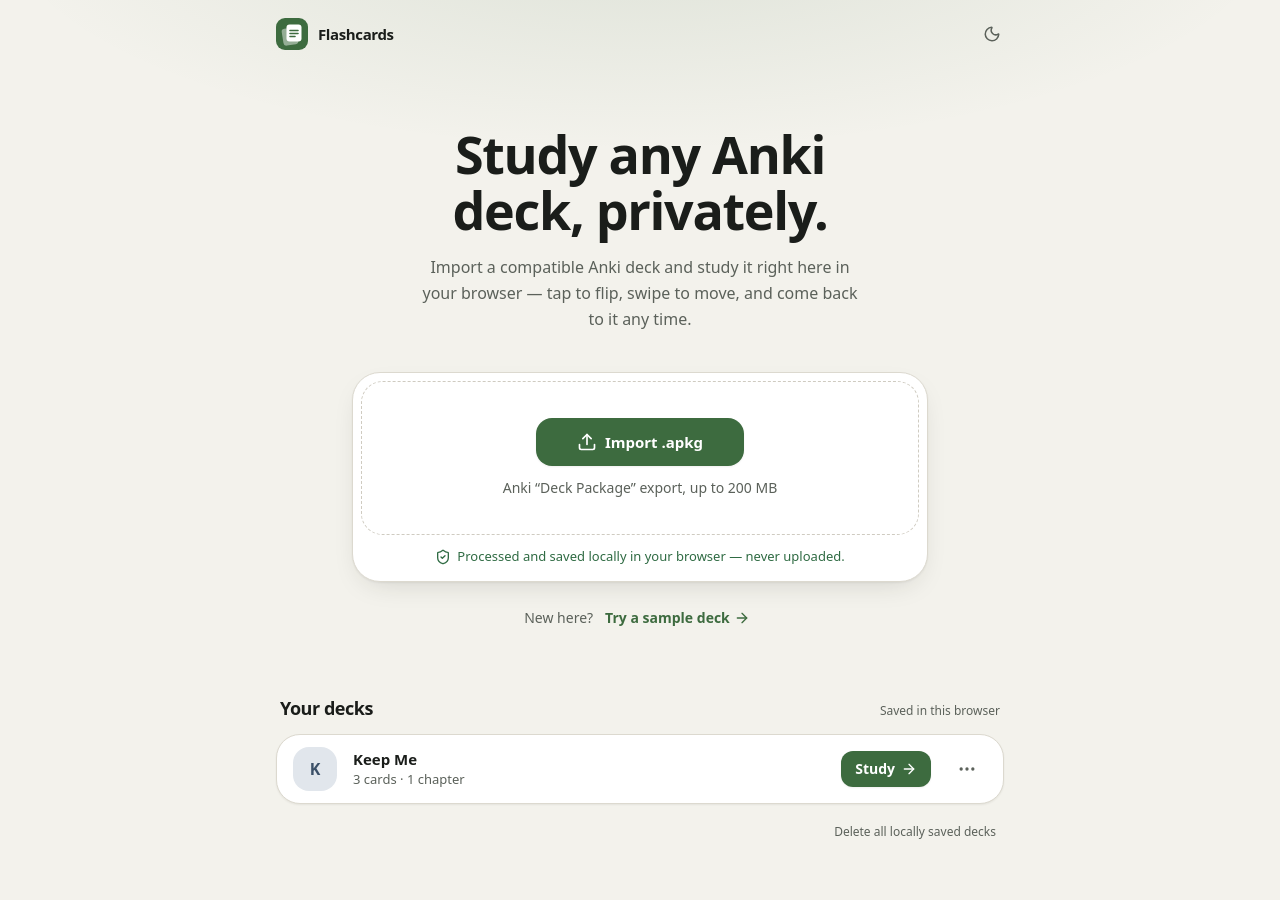
it: deleting from the library › cancelling leaves the deck alone
Check: the text "Keep Me" is shown, box [353,749,417,769]
Click the button named "More actions for Keep Me": click(967, 769) [947,749,987,789]
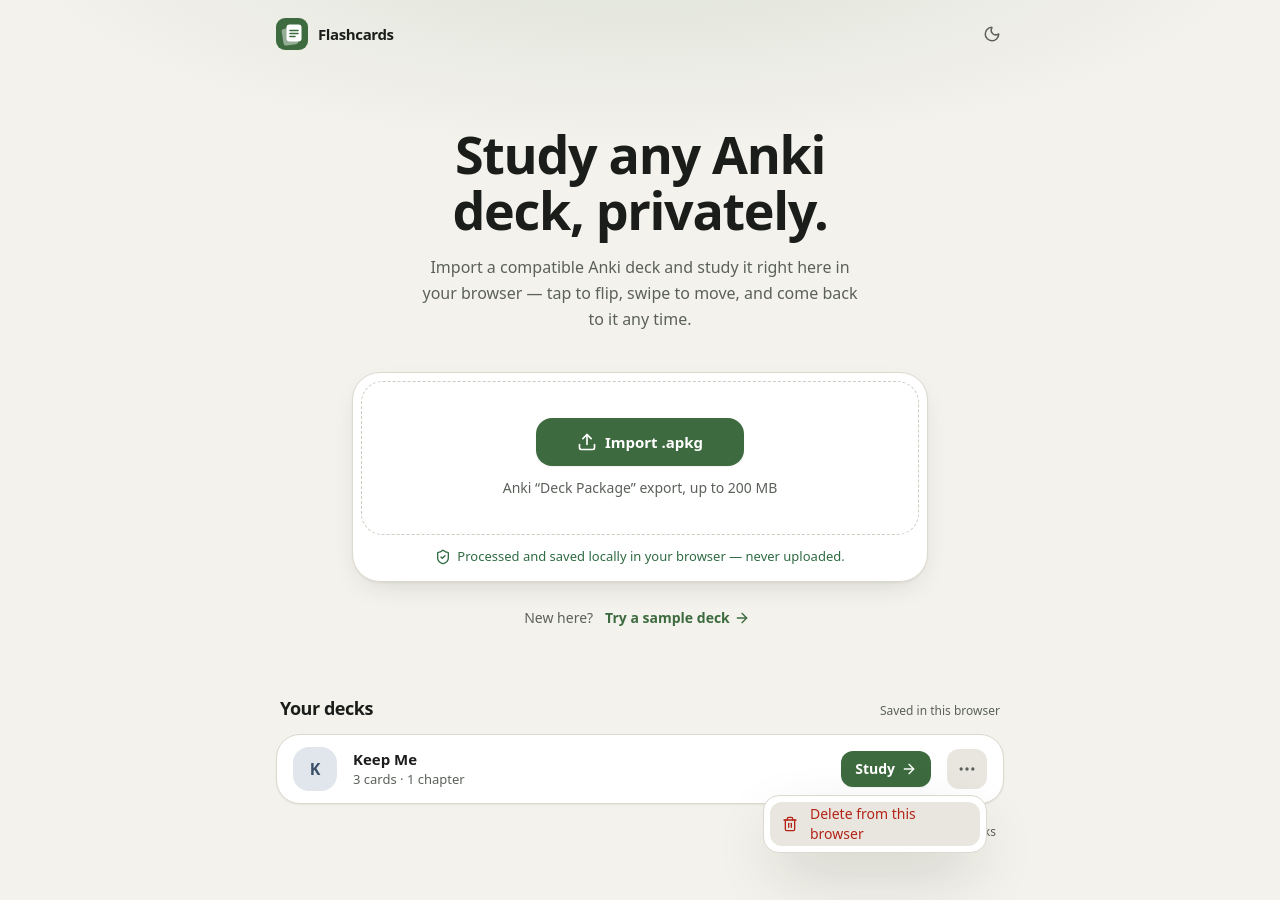
Click the menu item "Delete from this browser": click(875, 824) [770,802,980,846]
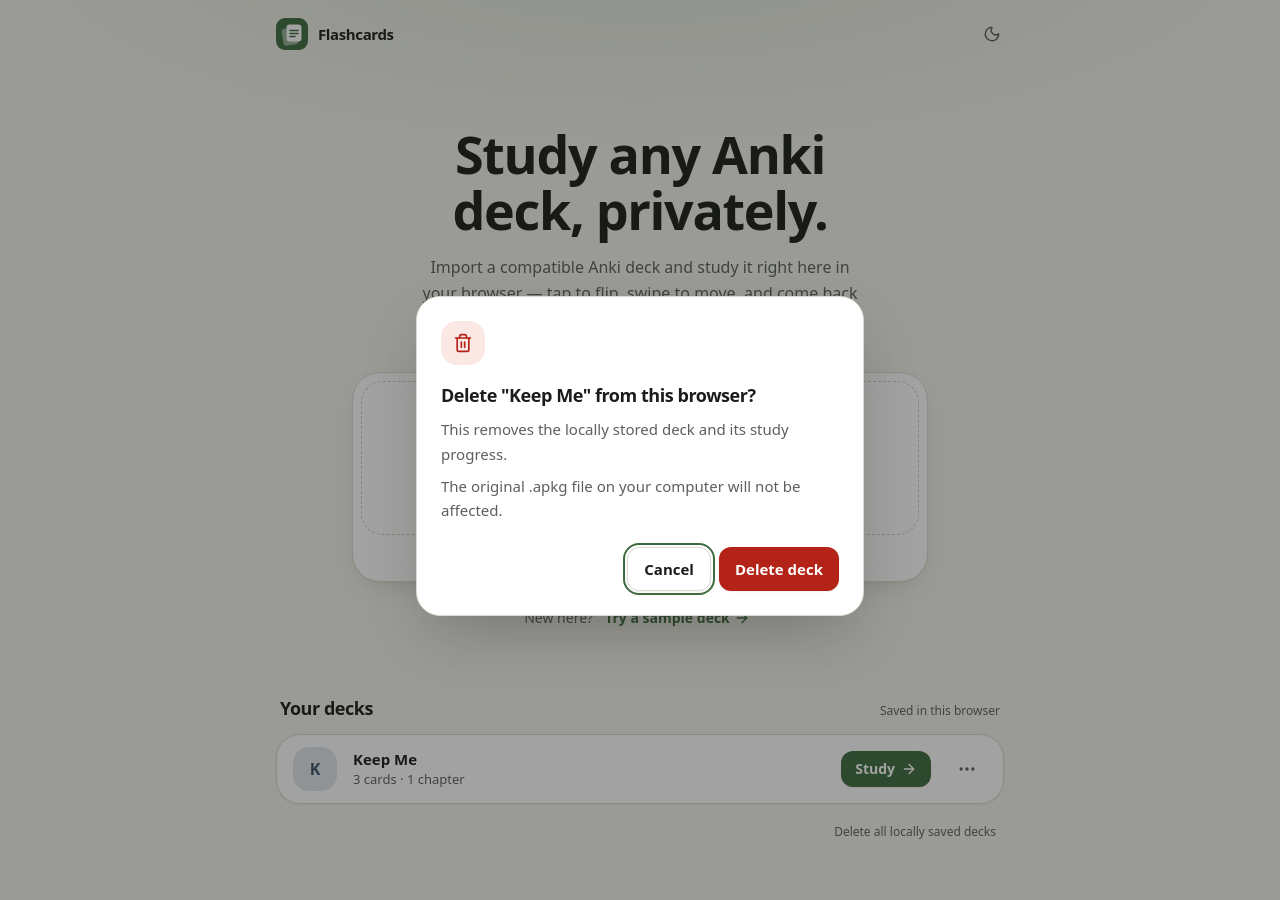
Click the button "Cancel": click(669, 569) [627,547,711,591]
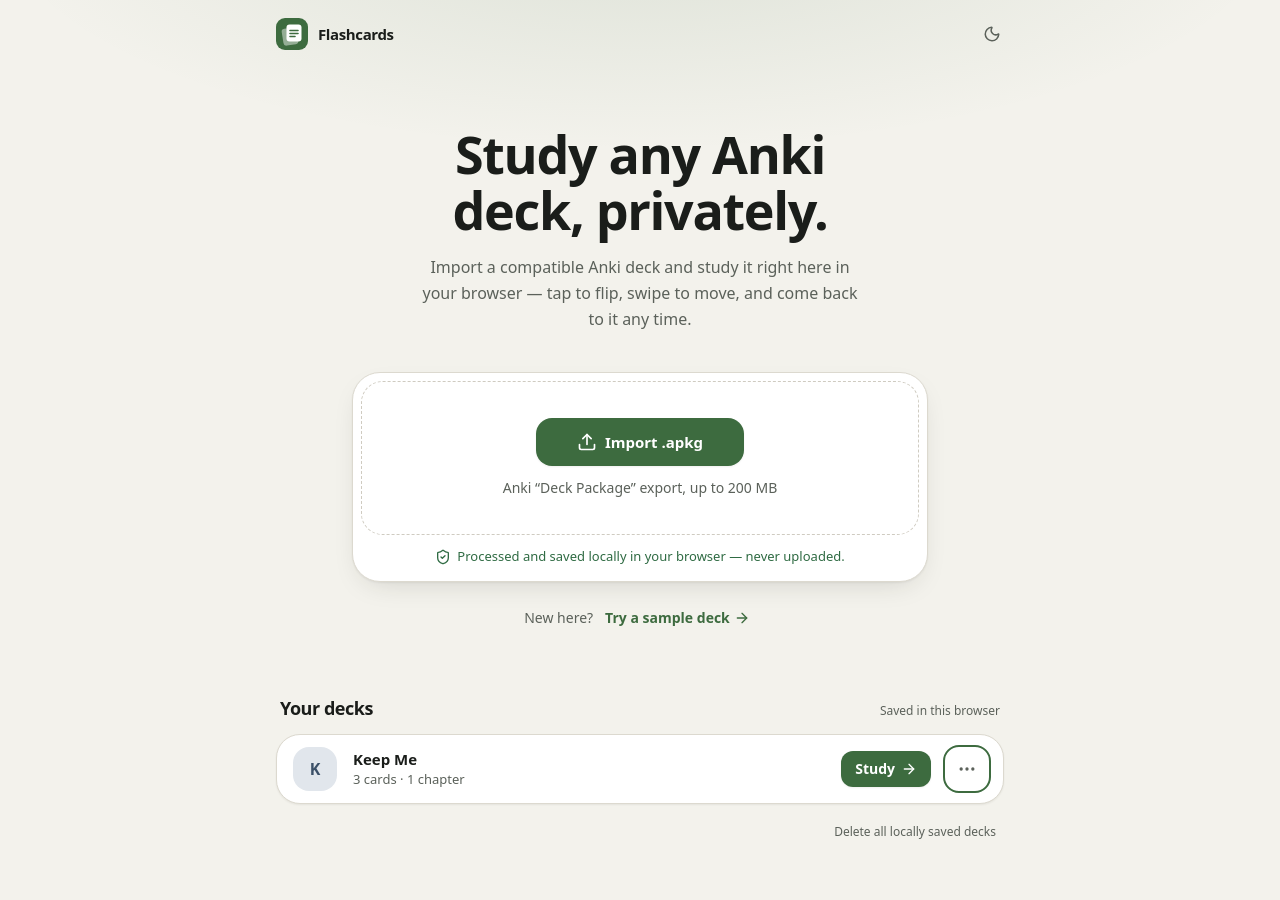
Check: the text "Keep Me" is shown, box [353,749,417,769]
Check: the dialog is gone
